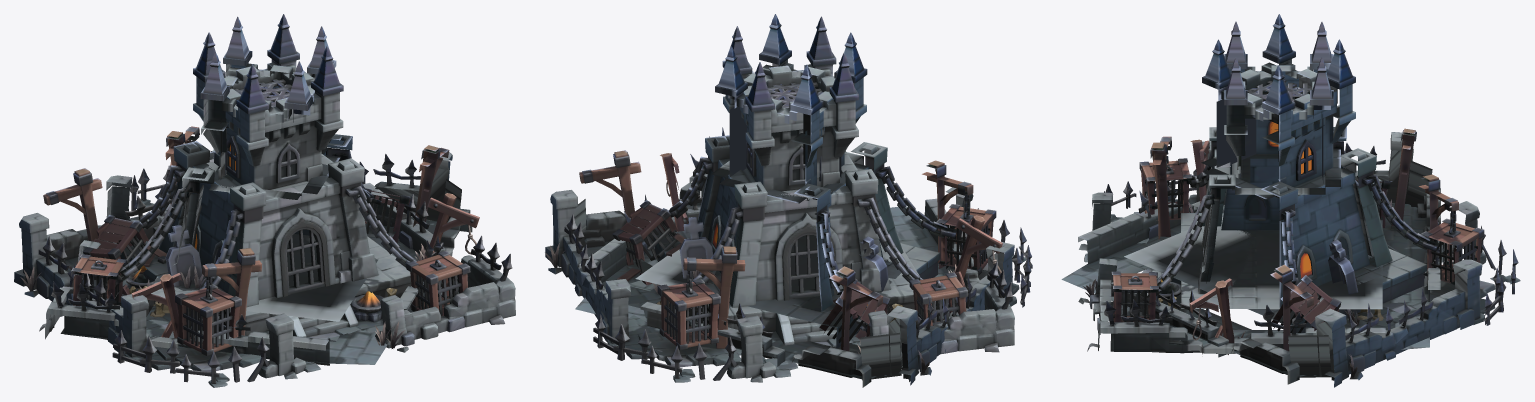
The model's file is world_siqiujianyu.glb.
The picture shows the model from 3 angles, left to right: view 1: azimuth 30°, elevation 25°; view 2: azimuth 150°, elevation 25°; view 3: azimuth 270°, elevation 25°; orthographic projection. The views are drawn at different scales.
Size of the model in its own units: 4.13 by 2.28 by 3.8.
2 materials, 2 textured.
